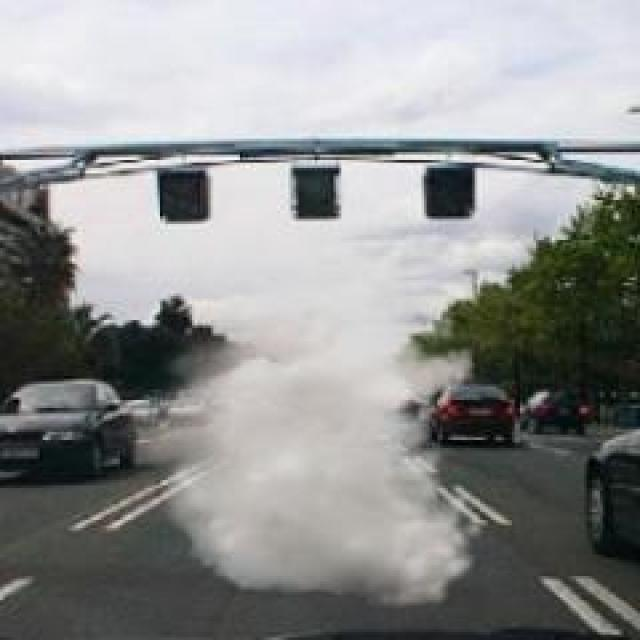Smoke: (145, 286, 477, 612)
